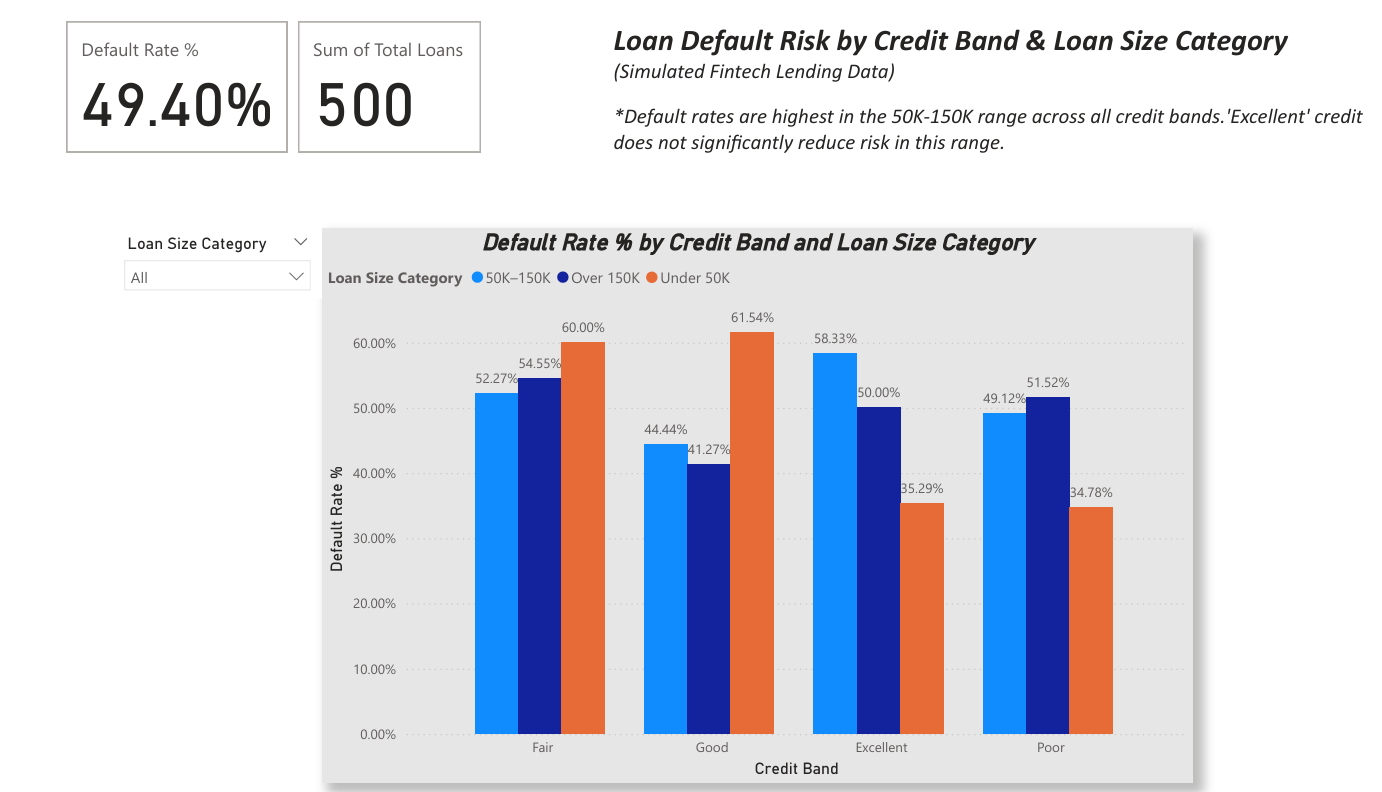

This screenshot's page, from the dashboard's own definition file:
{"tool":"powerbi","page":{"name":"Page 1","canvas":[1280,720],"ordinal":0},"visuals":[{"type":"clusteredColumnChart","fields":{"Category":["credit_band_default_rate.credit_band"],"Series":["credit_band_default_rate.loan_size_category"],"Y":["credit_band_default_rate.Correct_Default_Rate"]},"box":[329.3,189.4,773.9,492.6],"z":0},{"type":"slicer","fields":{"Values":["credit_band_default_rate.loan_size_category"]},"box":[142.7,189.4,186.6,63.1],"z":1},{"type":"cardVisual","fields":{"Data":["credit_band_default_rate.Overall_Default_Rate"]},"box":[97.4,0,205.8,126.2],"z":2},{"type":"cardVisual","fields":{"Data":["Sum(credit_band_default_rate.total_loans)"]},"box":[303.3,0,171.5,126.2],"z":3},{"type":"textbox","box":[583.2,0,677.9,167.4],"z":4}]}

Visuals, with their boxes in screenshot pixels (x1, y1, x2, y2), scaled from the page's 1280x720 canvas onto the 1382x792 screenshot:
clusteredColumnChart - credit_band_default_rate.credit_band x credit_band_default_rate.loan_size_category: <box>356,208,1191,750</box>
slicer - credit_band_default_rate.loan_size_category: <box>154,208,356,278</box>
cardVisual - credit_band_default_rate.Overall_Default_Rate: <box>105,0,327,139</box>
cardVisual - Sum(credit_band_default_rate.total_loans): <box>327,0,513,139</box>
textbox: <box>630,0,1362,184</box>
